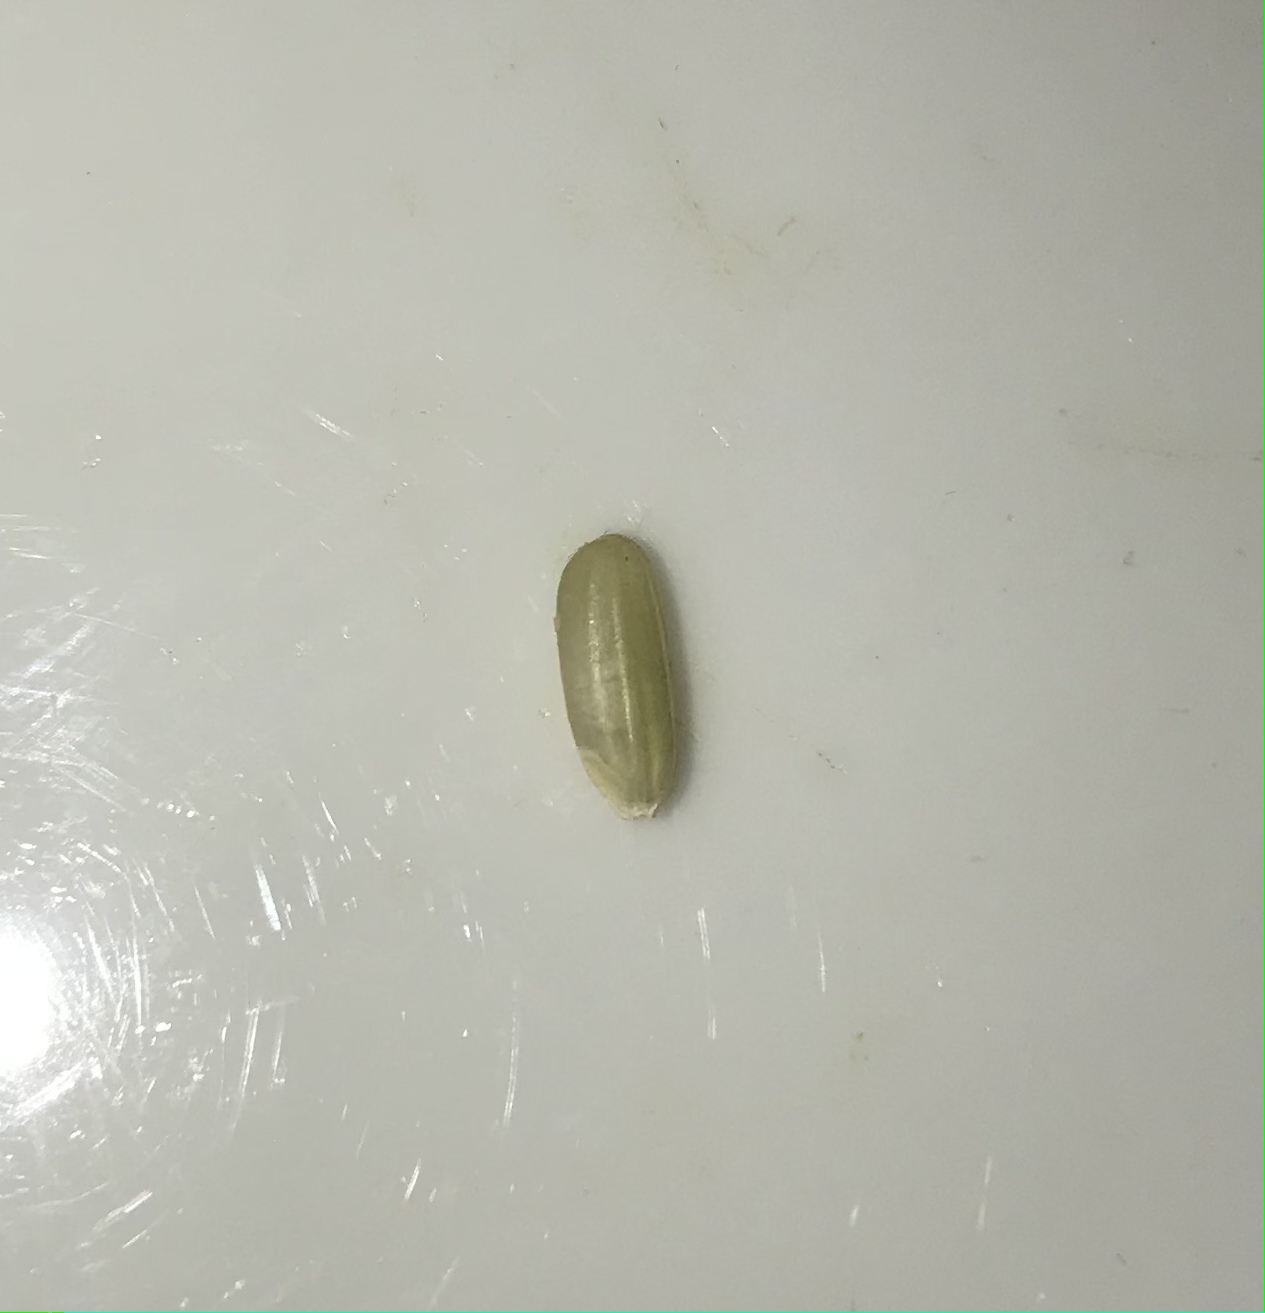Gao Lut Trang: (528, 528, 727, 834)
